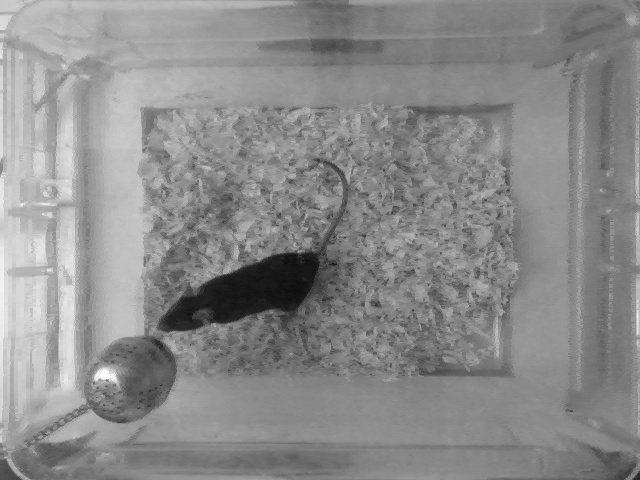mice: (158, 156, 349, 341)
